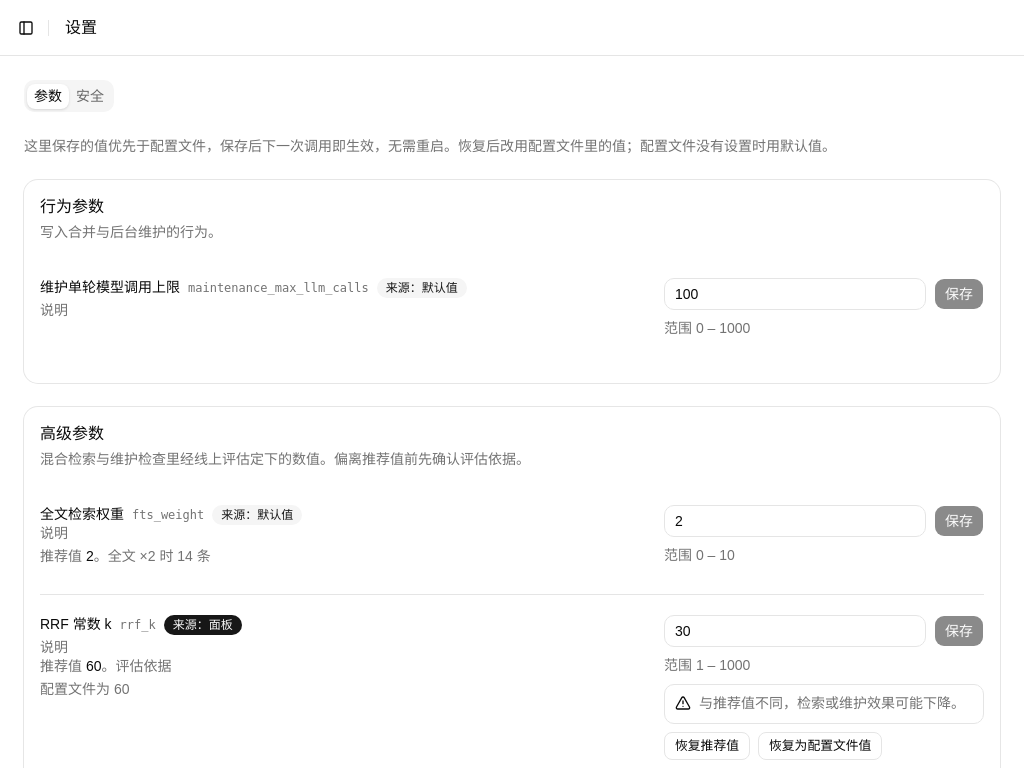
Test: revert drops the console value and shows the file value again
Check: the field labelled "RRF 常数 k" holds "30", box [664,615,926,647]
Click the button "恢复为配置文件值" at (820, 746), box [758,732,882,760]
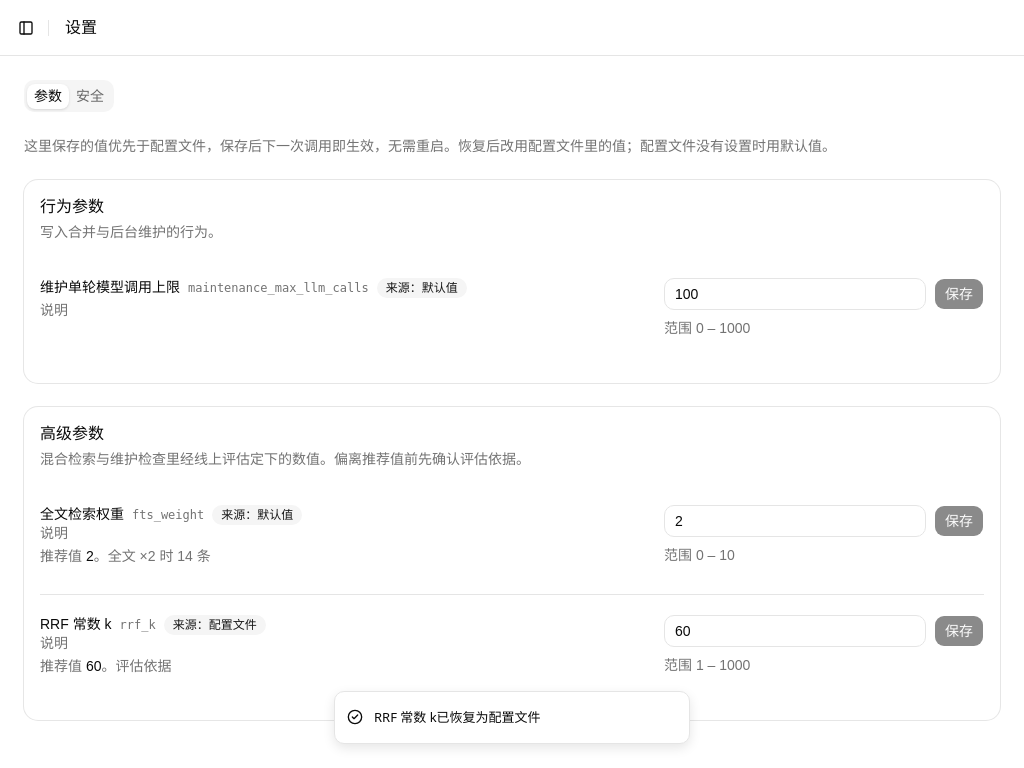
Check: the text "RRF 常数 k已恢复为配置文件" is shown, box [374,708,541,727]
Check: the field labelled "RRF 常数 k" holds "60", box [664,615,926,647]
Check: the text "来源：配置文件" is shown, box [164,615,266,635]
